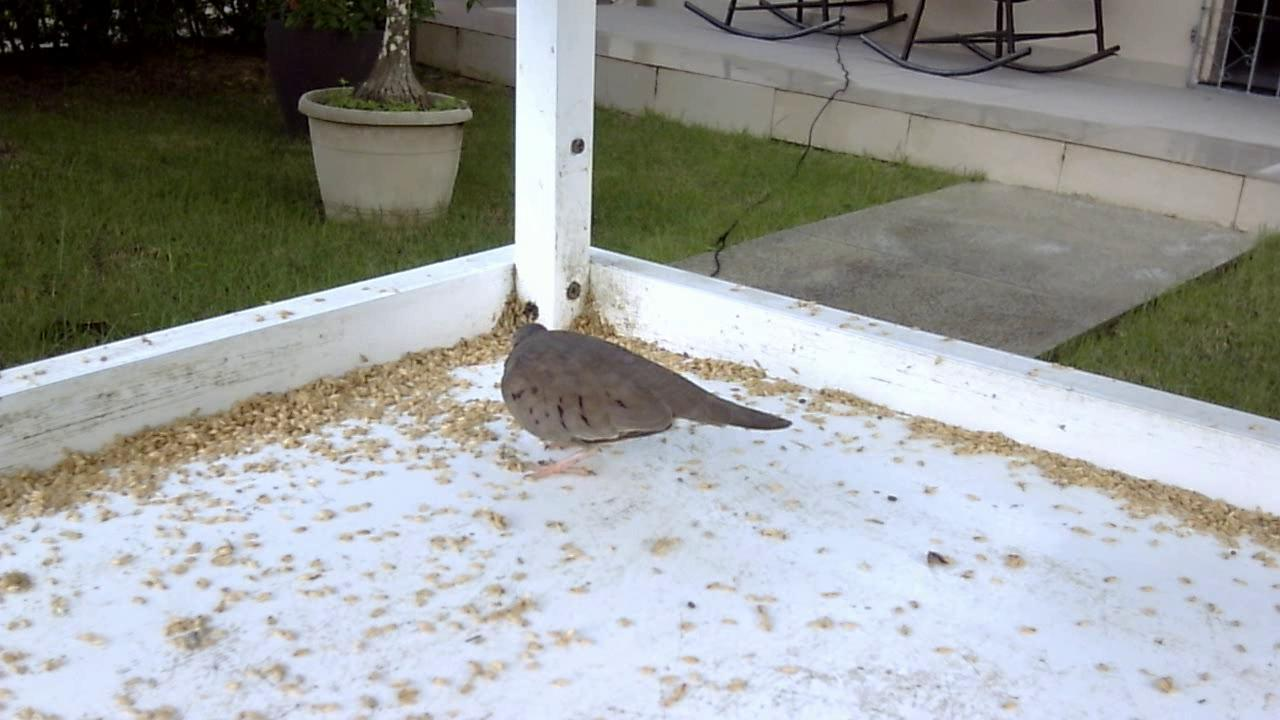rolinha: (491, 316, 794, 482)
